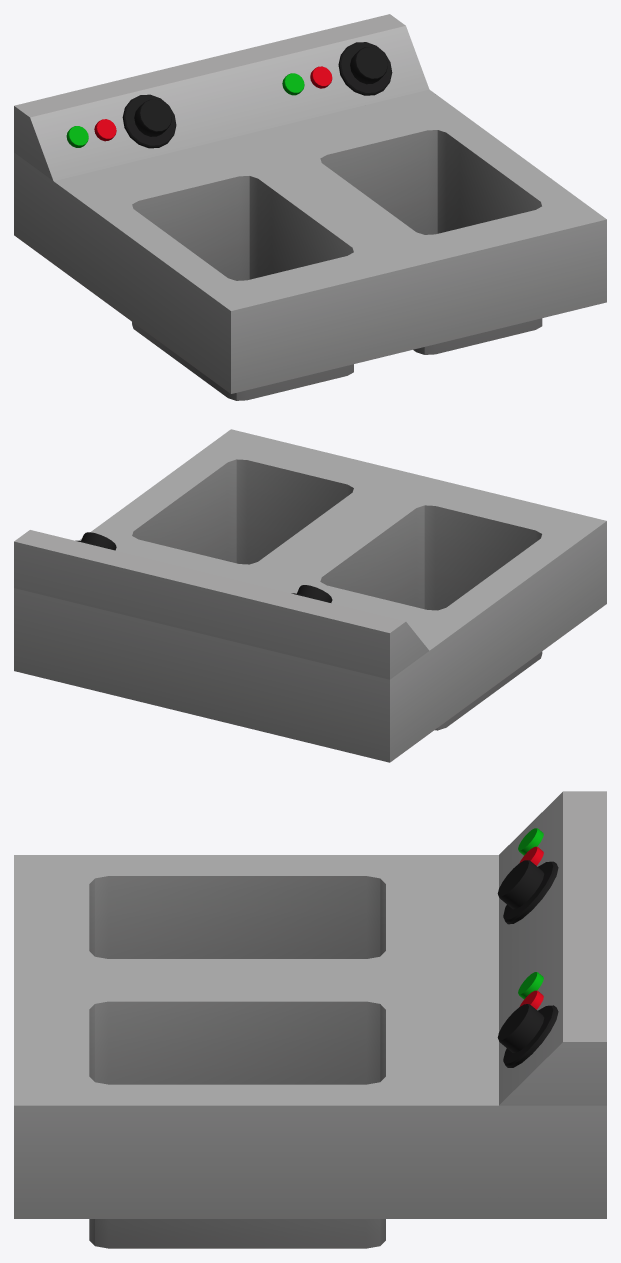
Rendered from Counter_Top_Deep_Fryer_01.fbx.
The picture shows the model from 3 angles, top to bottom: view 1: azimuth 30°, elevation 25°; view 2: azimuth 150°, elevation 25°; view 3: azimuth 270°, elevation 25°; orthographic projection. The views are drawn at different scales.
Visible parts, largest first — view 1: Counter_Top_Deep_Fryer_01; view 2: Counter_Top_Deep_Fryer_01; view 3: Counter_Top_Deep_Fryer_01.
Part boxes in pixels (x1,y1,x2,y2): Counter_Top_Deep_Fryer_01: (14, 14, 606, 400); Counter_Top_Deep_Fryer_01: (14, 429, 606, 762); Counter_Top_Deep_Fryer_01: (14, 791, 606, 1248).
Bounding box in the file's own units: 100 × 42.44 × 100.
